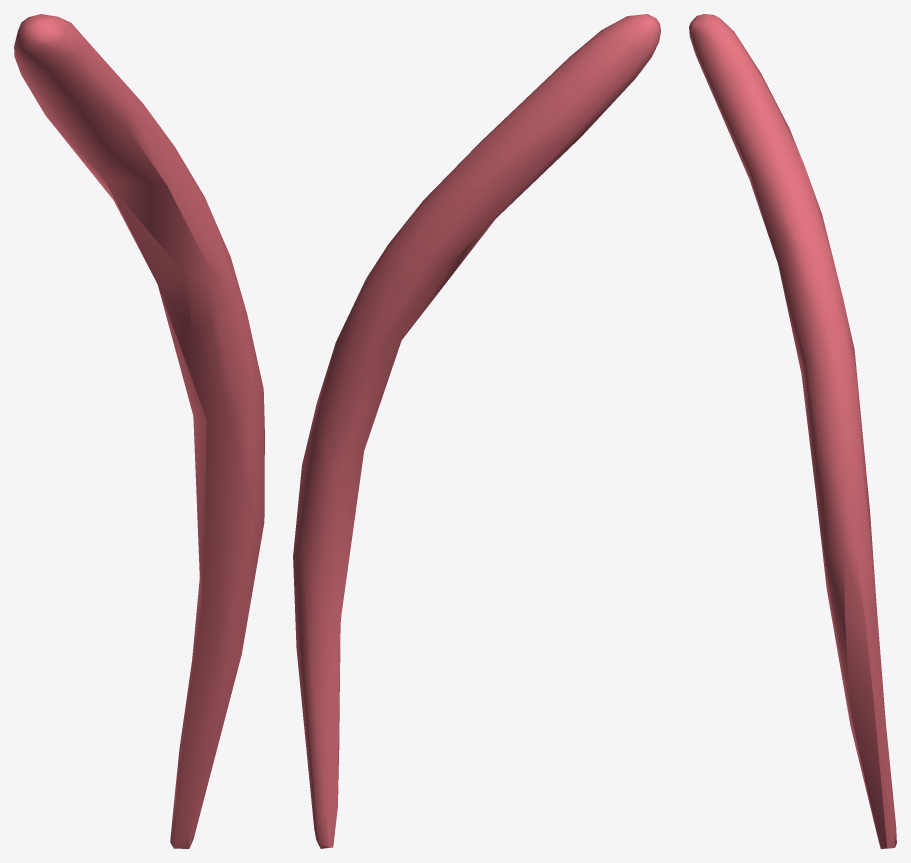
Rendered from fma9428_fj3043.glb.
3 views of the same model, side by side, from view 1: azimuth 30°, elevation 25°; view 2: azimuth 150°, elevation 25°; view 3: azimuth 270°, elevation 25° (orthographic). The views are drawn at different scales.
Visible parts, largest first — view 1: FMA9428_FJ3043; view 2: FMA9428_FJ3043; view 3: FMA9428_FJ3043.
Boxes of the visible parts, x1,y1,x2,y2 form: FMA9428_FJ3043: [14, 14, 264, 848]; FMA9428_FJ3043: [293, 14, 660, 848]; FMA9428_FJ3043: [689, 14, 896, 848].
Bounding box in the file's own units: 0.0193 × 0.0536 × 0.0137.
